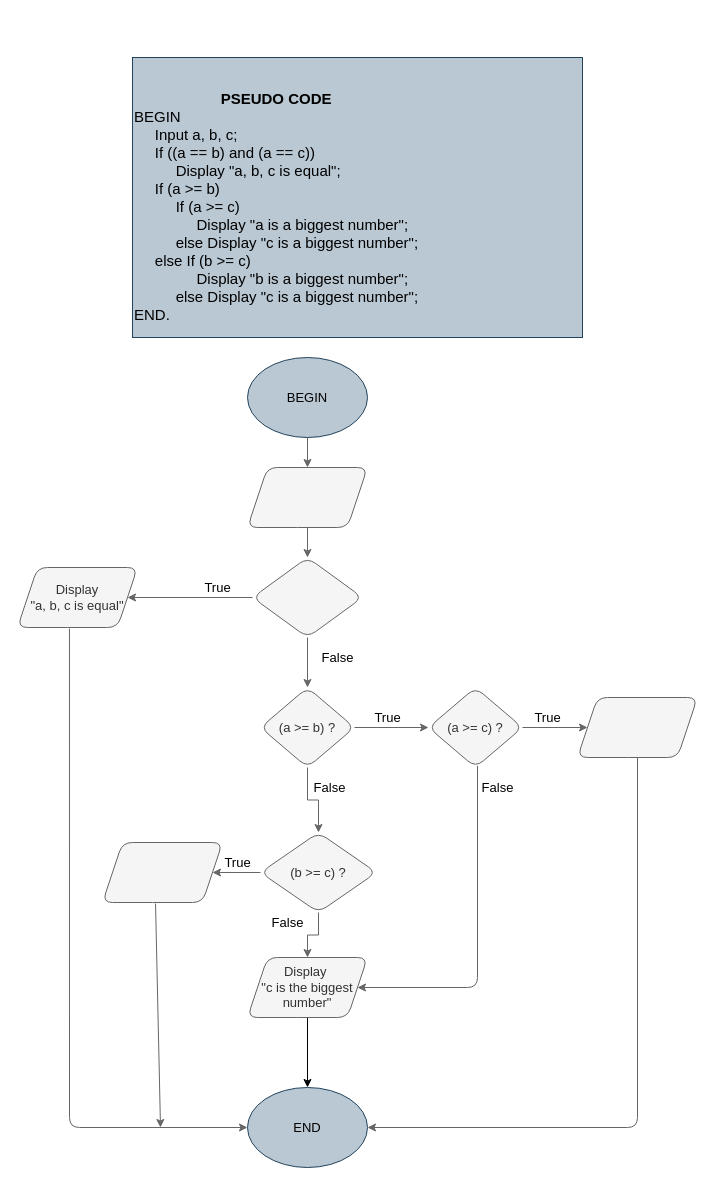
Image size: 715x1185. Some labels were removed from this diagram. Here are the shapes that lost their labels. From the top down, the box of each, then its label:
(246, 466, 368, 528): Input a, b, c
(252, 556, 362, 638): ( a == b == c) ?
(576, 696, 698, 758): Display "a is the biggest number"
(102, 842, 222, 902): Display "b is the biggest number
